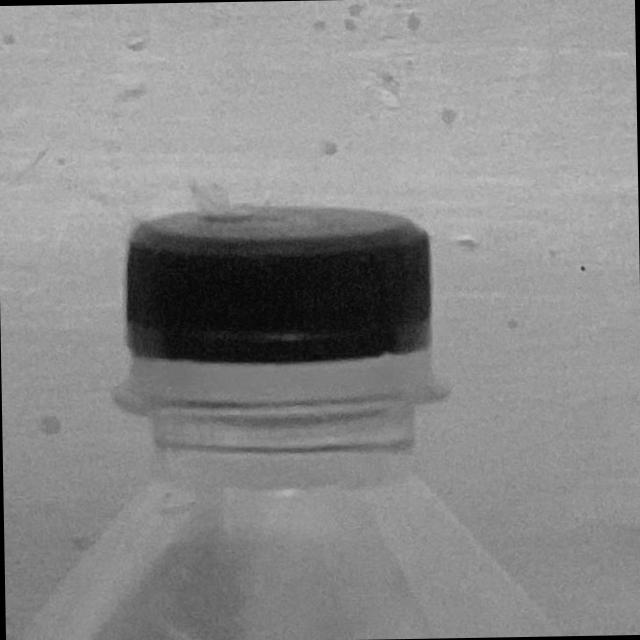Good-cap-Df0S: (104, 194, 462, 430)
